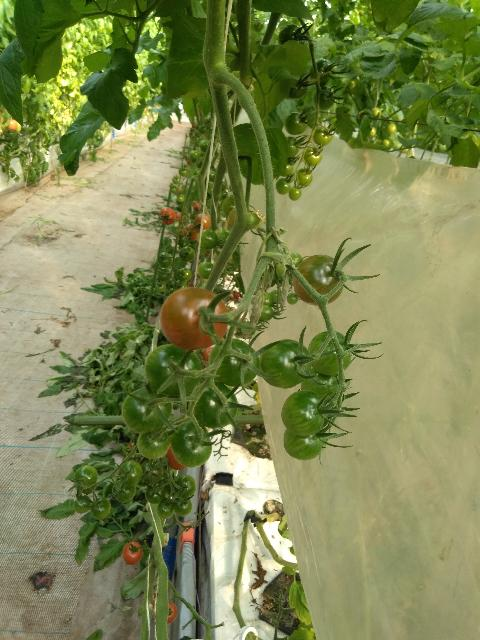l_fully_ripened: (159, 206, 176, 224)
l_green: (145, 344, 202, 397), (259, 339, 312, 389), (208, 338, 260, 387), (188, 380, 238, 429), (121, 387, 173, 433), (281, 390, 325, 437), (170, 420, 212, 468), (308, 331, 352, 376), (300, 367, 341, 403), (283, 428, 323, 461), (137, 425, 171, 459), (118, 460, 143, 487), (309, 59, 332, 88), (141, 459, 164, 484), (284, 112, 309, 135), (278, 24, 305, 45), (113, 479, 136, 503), (312, 86, 335, 110), (175, 474, 197, 499), (74, 465, 97, 488), (288, 75, 308, 100), (91, 496, 111, 520), (196, 229, 218, 250), (145, 484, 167, 504), (302, 147, 322, 167), (312, 127, 332, 146), (157, 498, 175, 519), (216, 228, 232, 250), (73, 496, 92, 514), (296, 168, 313, 187), (175, 498, 192, 516), (287, 137, 301, 158), (196, 262, 213, 279), (222, 195, 236, 215), (275, 178, 291, 195), (179, 246, 195, 262), (157, 252, 172, 269), (260, 305, 274, 321), (177, 267, 191, 283), (288, 253, 302, 268), (288, 187, 301, 201), (275, 262, 284, 280), (263, 292, 273, 308), (287, 293, 298, 304)
l_half_ripened: (160, 287, 229, 350), (293, 254, 345, 306), (167, 443, 187, 470), (123, 542, 142, 566), (194, 214, 211, 232), (182, 223, 198, 240), (167, 601, 177, 624), (227, 208, 237, 228)
